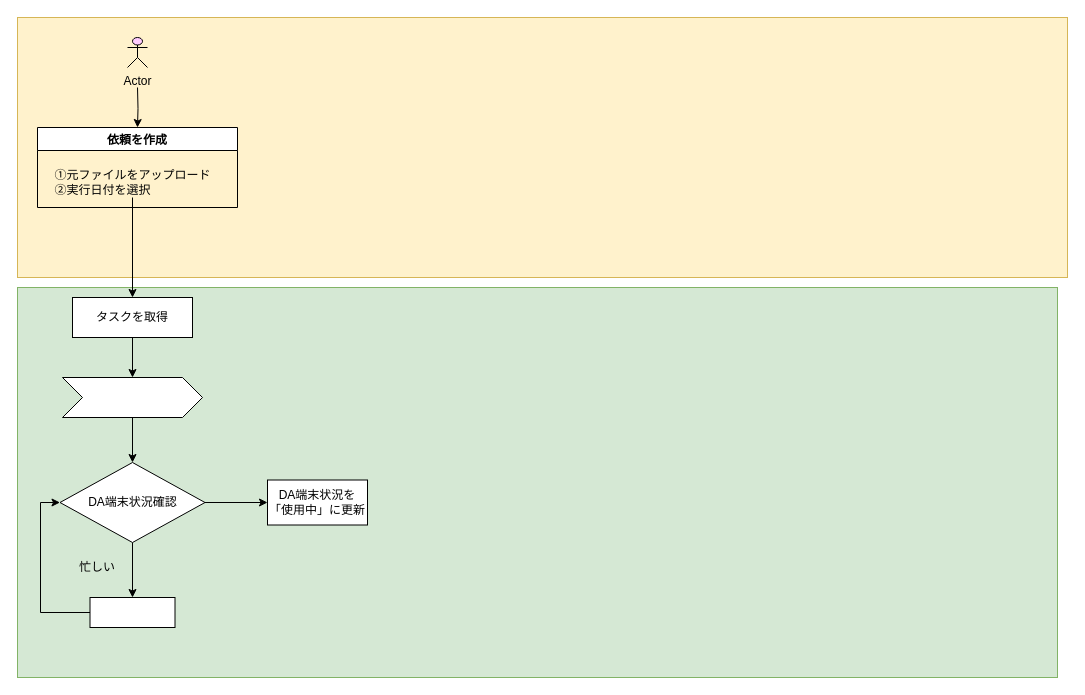
Image size: 1085x695. Some labels were removed from this diagram. Each missing label, with the centre of its shape:
"1時間待つ" goes at pixel 132 612.
"「QUEUE」に追加" goes at pixel 132 397.
